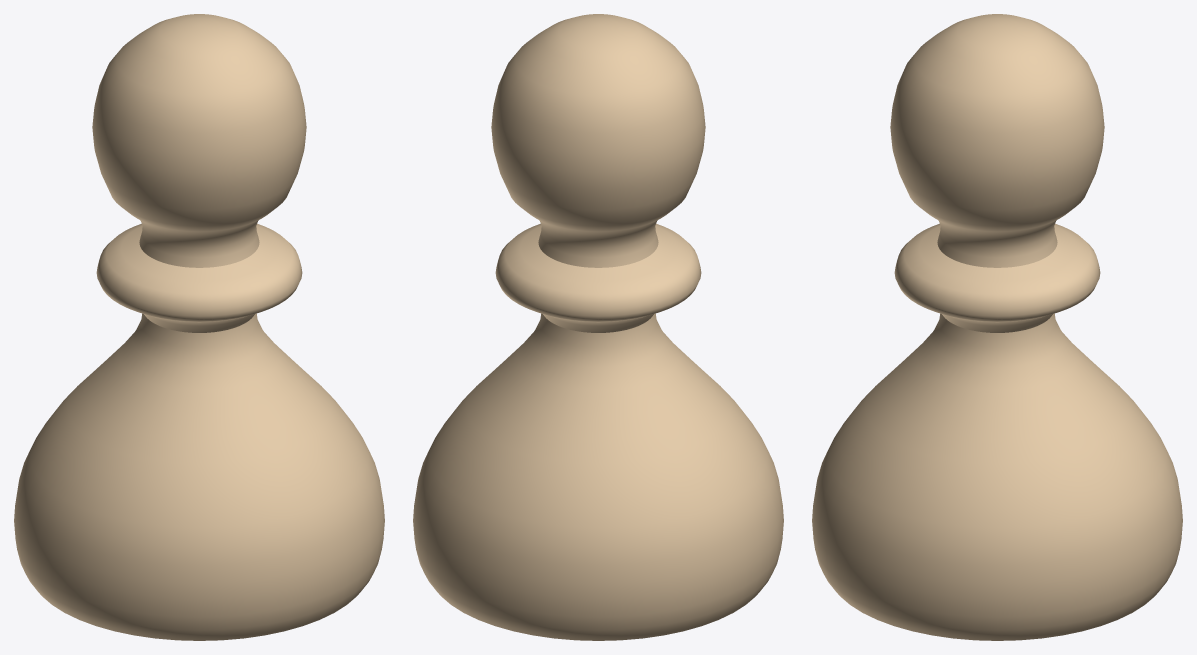
The model's file is white-pawn.glb.
3 views of the same model, side by side, from view 1: azimuth 30°, elevation 25°; view 2: azimuth 150°, elevation 25°; view 3: azimuth 270°, elevation 25° (orthographic).
Parts seen in each view (by area): view 1: white-pawn.001; view 2: white-pawn.001; view 3: white-pawn.001.
Part boxes in pixels (x1,y1,x2,y2): white-pawn.001: [14, 14, 384, 640]; white-pawn.001: [413, 14, 783, 640]; white-pawn.001: [812, 14, 1182, 640].
Bounding box in the file's own units: 0.556 × 0.9 × 0.556.
